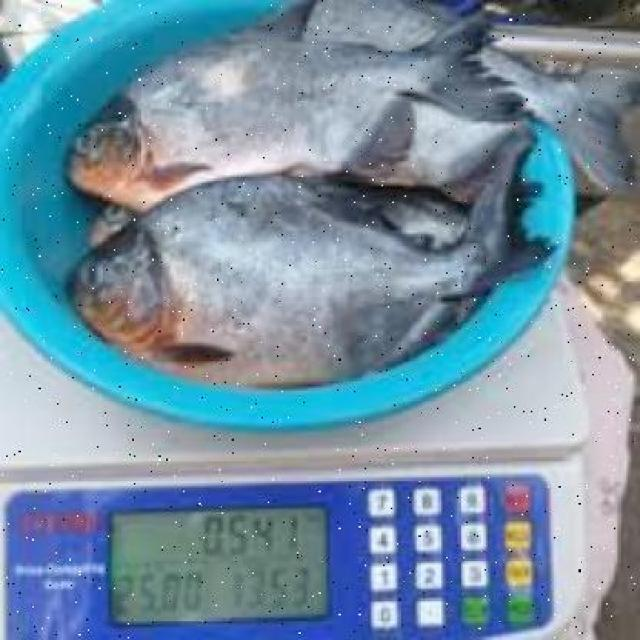ikan-pacu: (61, 166, 502, 380), (66, 18, 472, 200)
